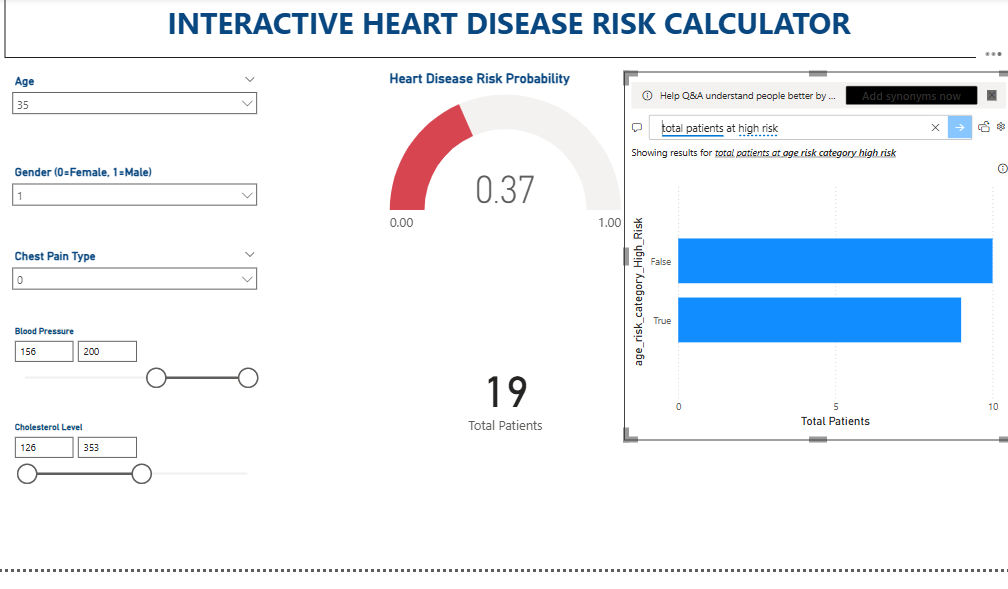

What the dashboard file says about the page in this screenshot:
{"tool":"powerbi","page":{"name":"Interactive Risk Calculator","canvas":[1280,720],"ordinal":3},"visuals":[{"type":"textbox","box":[9.9,0,1270.5,76.2],"z":0},{"type":"slicer","fields":{"Values":["heart_disease_initial.age"]},"box":[9.9,91.1,328,77.9],"z":1000},{"type":"slicer","fields":{"Values":["heart_disease_preprocessed.sex"]},"box":[9.9,205.4,328,89.4],"z":2000},{"type":"slicer","fields":{"Values":["heart_disease_preprocessed.cp"]},"box":[9.9,311.4,328,96.1],"z":3000},{"type":"slicer","fields":{"Values":["heart_disease_initial.trestbps"]},"box":[10,408.3,328.3,98.3],"z":4000},{"type":"slicer","fields":{"Values":["heart_disease_initial.chol"]},"box":[9.9,528.4,328,91.1],"z":5000},{"type":"gauge","title":"Heart Disease Risk Probability","fields":{"Y":["Avg(heart_disease_preprocessed.target_binary)"]},"box":[488.7,91.1,301.5,218.7],"z":6000},{"type":"card","fields":{"Values":["heart_disease_preprocessed.Total Patients"]},"box":[488.7,395.9,301.5,208.7],"z":8000},{"type":"qnaVisual","box":[790,91.7,490,466.7],"z":8001}]}

Visuals, with their boxes on the page's 1280x720 design canvas (x1, y1, x2, y2). These are canvas units, not pixel positions in the 1008x589 screenshot, which may show the page scaled, cropped or inside an application window:
textbox: BBox(10, 0, 1280, 76)
slicer - heart_disease_initial.age: BBox(10, 91, 338, 169)
slicer - heart_disease_preprocessed.sex: BBox(10, 205, 338, 295)
slicer - heart_disease_preprocessed.cp: BBox(10, 311, 338, 408)
slicer - heart_disease_initial.trestbps: BBox(10, 408, 338, 507)
slicer - heart_disease_initial.chol: BBox(10, 528, 338, 620)
"Heart Disease Risk Probability" gauge: BBox(489, 91, 790, 310)
card - heart_disease_preprocessed.Total Patients: BBox(489, 396, 790, 605)
qnaVisual: BBox(790, 92, 1280, 558)
